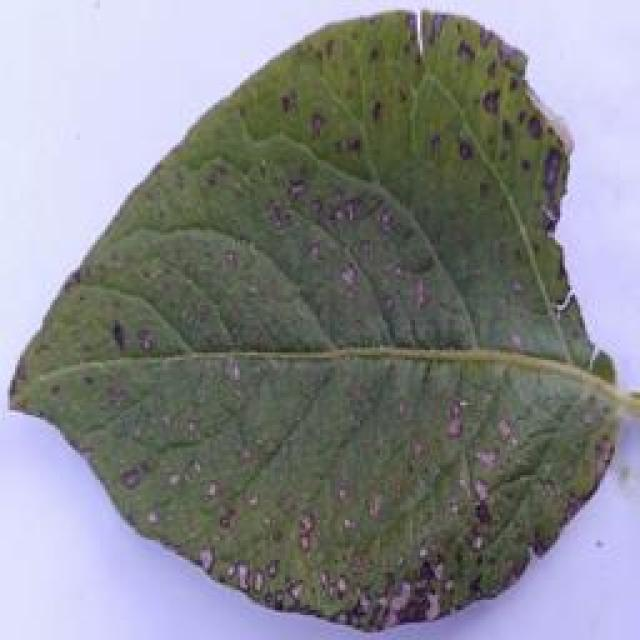Potato_Early_Blight: (7, 7, 640, 632)
